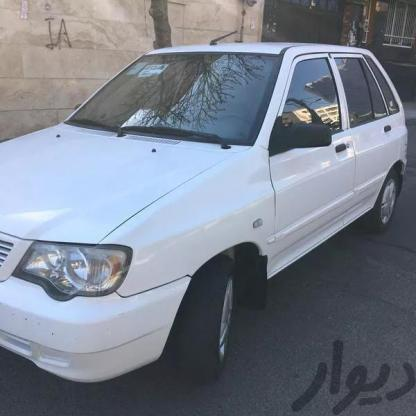Car: (0, 35, 416, 384)
